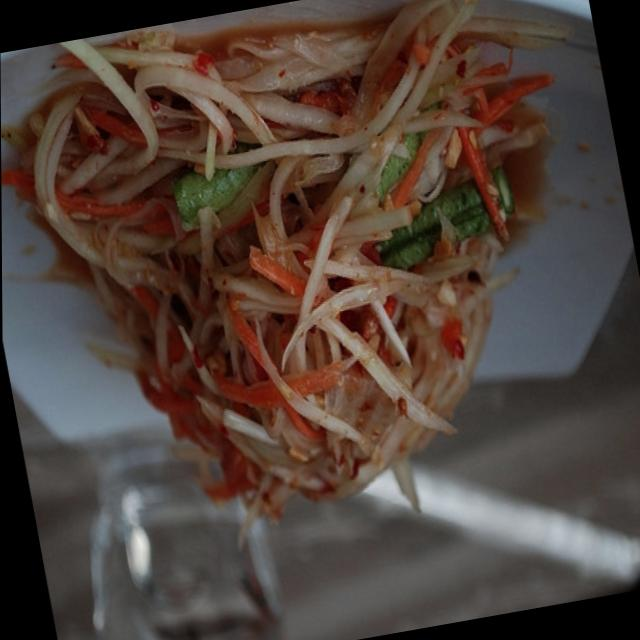蔬菜料理: (0, 0, 593, 595)
